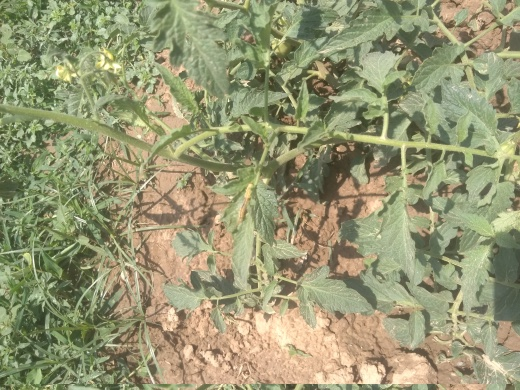tomato flower: (20, 39, 132, 96), (51, 56, 95, 100), (481, 130, 519, 175), (80, 42, 121, 80)
tomato plant: (164, 4, 520, 309)
